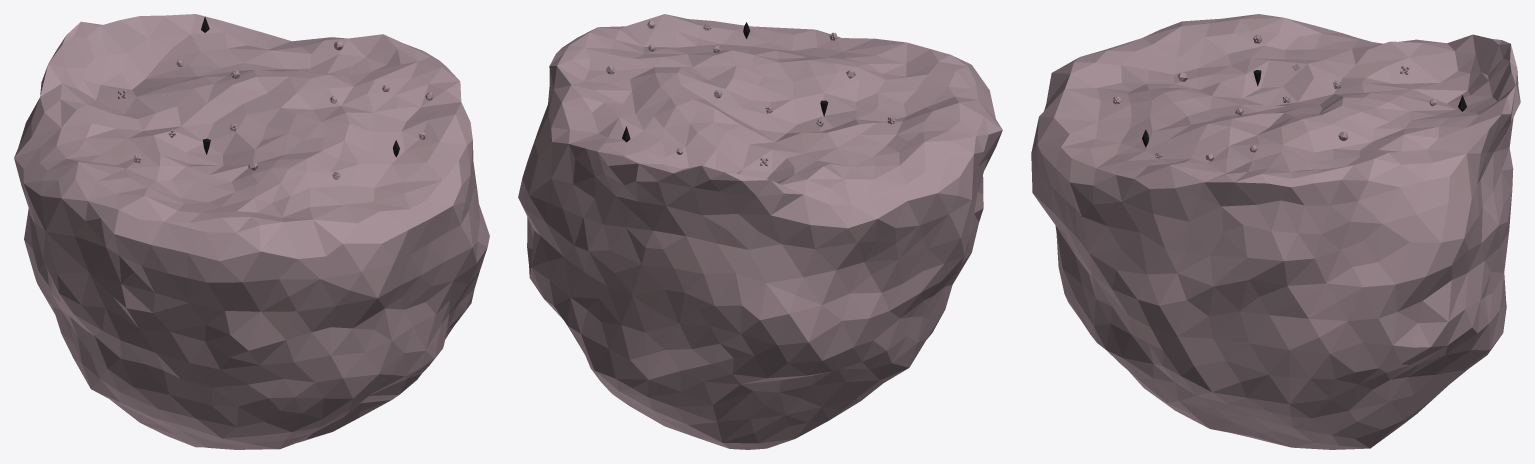
File: World.glb
3 renders of one model, left to right at view 1: azimuth 30°, elevation 25°; view 2: azimuth 150°, elevation 25°; view 3: azimuth 270°, elevation 25°, orthographic. The views are drawn at different scales.
Parts seen in each view (by area): view 1: Planet Bottom, Planet Top; view 2: Planet Bottom, Planet Top; view 3: Planet Bottom, Planet Top.
Part boxes in pixels (x1=…): Planet Bottom: x1=14, y1=36, x2=489, y2=449; Planet Top: x1=14, y1=14, x2=472, y2=232; Planet Bottom: x1=518, y1=30, x2=1002, y2=449; Planet Top: x1=549, y1=14, x2=985, y2=218; Planet Bottom: x1=1031, y1=57, x2=1520, y2=449; Planet Top: x1=1054, y1=14, x2=1517, y2=188.
Size of the model in its own units: 50.7 by 40.88 by 50.72.
